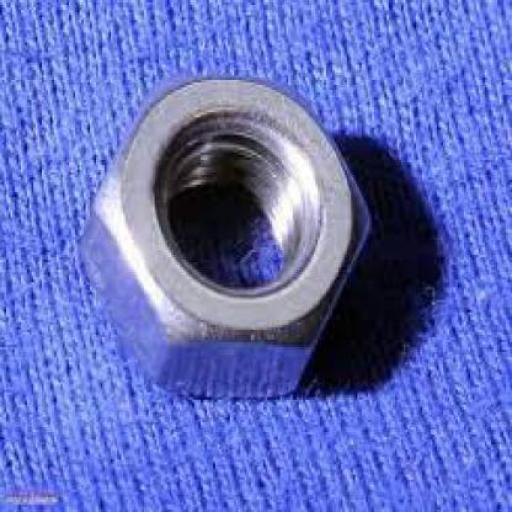Nut: (81, 77, 371, 401)
